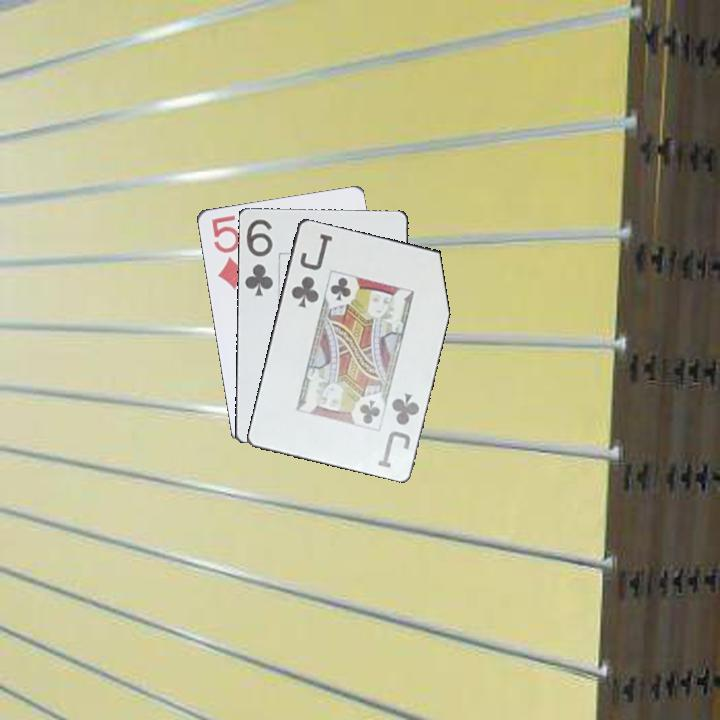5d: (208, 211, 248, 293)
6c: (241, 215, 276, 299)
Jc: (287, 229, 335, 311), (374, 389, 422, 470)
